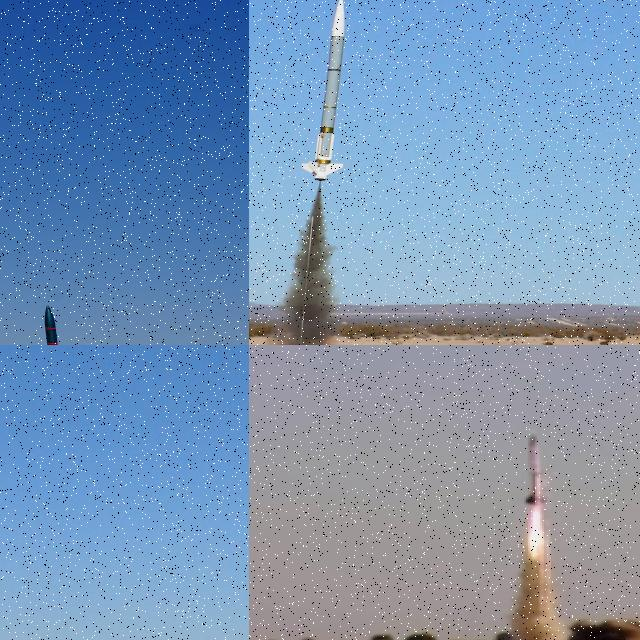Rocket: (300, 0, 345, 183), (37, 303, 80, 345), (524, 434, 548, 504)
